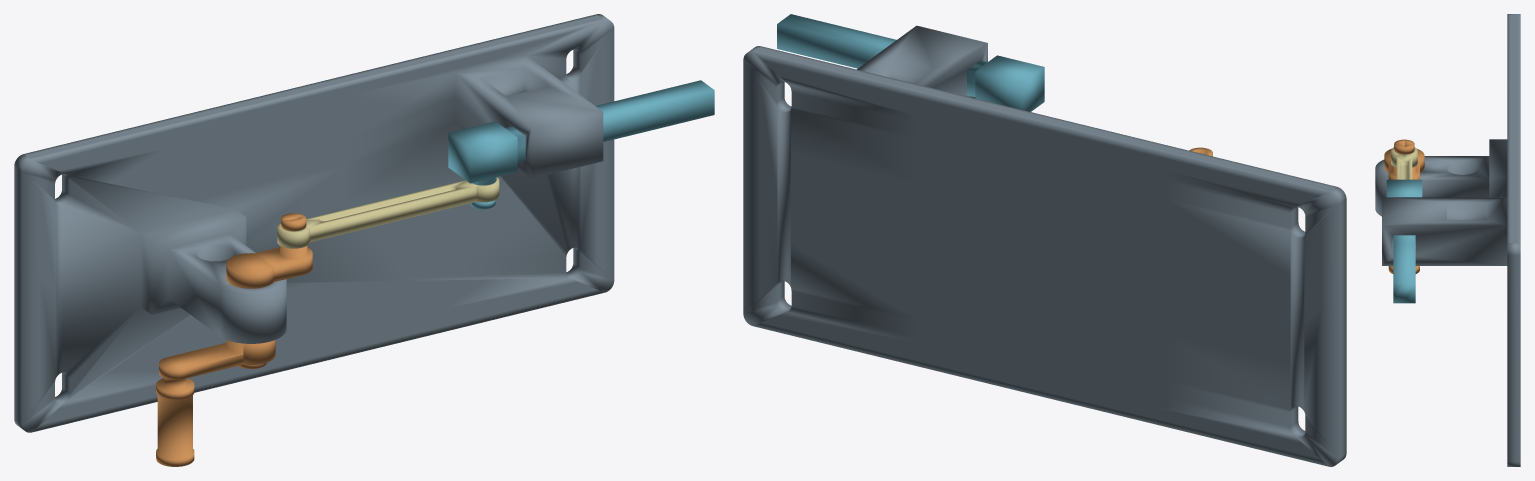
The picture shows the model from 3 angles, left to right: view 1: azimuth 30°, elevation 25°; view 2: azimuth 150°, elevation 25°; view 3: azimuth 270°, elevation 25°; orthographic projection. The views are drawn at different scales.
Visible parts, largest first — view 1: body_002__solid_1, body_004__solid_1, body_001__solid_3, body_003__solid_1, body_001__solid_2; view 2: body_002__solid_1, body_004__solid_1; view 3: body_002__solid_1, body_004__solid_1, body_003__solid_1, body_001__solid_2, body_001__solid_1.
Part boxes in pixels (<box>): body_002__solid_1: <box>14,14,614,432</box>; body_004__solid_1: <box>448,80,714,185</box>; body_001__solid_3: <box>156,340,275,466</box>; body_003__solid_1: <box>277,177,499,248</box>; body_001__solid_2: <box>226,246,312,288</box>; body_002__solid_1: <box>743,25,1346,466</box>; body_004__solid_1: <box>777,14,1044,111</box>; body_002__solid_1: <box>1375,14,1520,466</box>; body_004__solid_1: <box>1386,179,1422,303</box>; body_003__solid_1: <box>1391,147,1417,179</box>; body_001__solid_2: <box>1384,148,1424,179</box>; body_001__solid_1: <box>1394,139,1414,154</box>.
Bounding box in the file's own units: 0.263 × 0.11 × 0.065.
